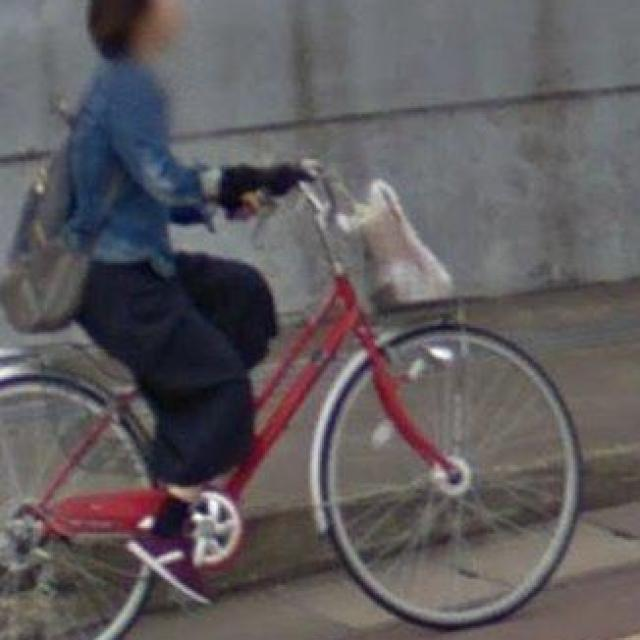bicycle: (0, 142, 615, 632)
